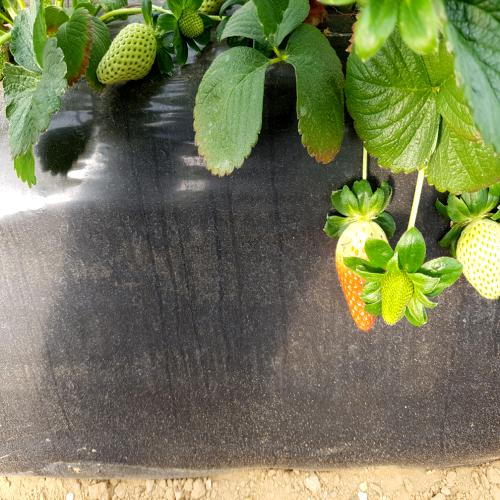partially-ripe: (337, 221, 392, 348)
